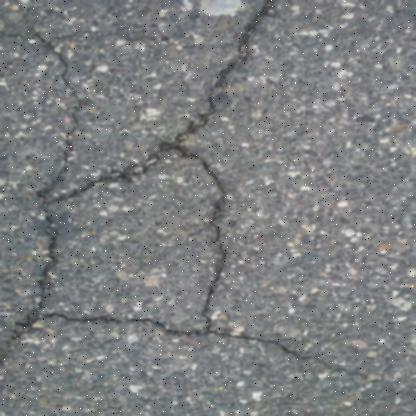Cracks: (0, 0, 350, 380)
